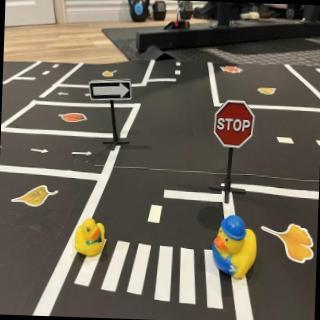duck_regular: (74, 219, 108, 260)
duck_specialty: (212, 213, 260, 282)
road_crosswalk: (67, 236, 231, 313)
road_oneway: (69, 148, 95, 161), (27, 146, 55, 157), (83, 92, 93, 102), (58, 90, 70, 97)
sign_oneway_right: (88, 79, 134, 104)
sign_stop: (214, 101, 257, 152)
